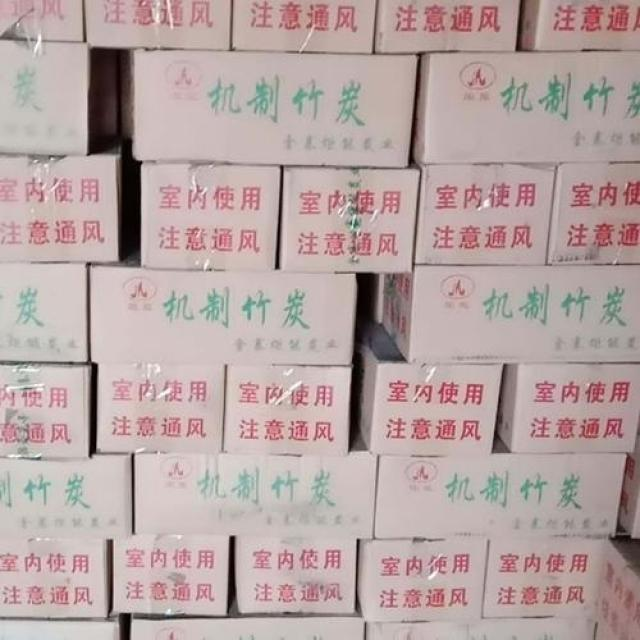box: (119, 52, 416, 167), (134, 425, 383, 540), (87, 261, 359, 363), (411, 52, 639, 167), (374, 435, 625, 538), (381, 267, 639, 364), (351, 322, 507, 458), (137, 165, 283, 270), (277, 167, 420, 273), (414, 167, 555, 265), (494, 362, 639, 454), (0, 155, 122, 262), (92, 362, 229, 454), (222, 365, 353, 455), (0, 454, 135, 536), (355, 539, 489, 621), (111, 534, 231, 617), (0, 44, 91, 153), (233, 539, 358, 618), (482, 539, 604, 618), (0, 361, 96, 457), (0, 536, 109, 620), (550, 165, 639, 266), (0, 261, 88, 363), (372, 2, 520, 54), (231, 2, 378, 53), (82, 2, 233, 50), (519, 3, 639, 52), (128, 616, 367, 639), (365, 618, 596, 639), (595, 539, 639, 639), (0, 0, 83, 43), (0, 618, 120, 639), (615, 456, 639, 539)
